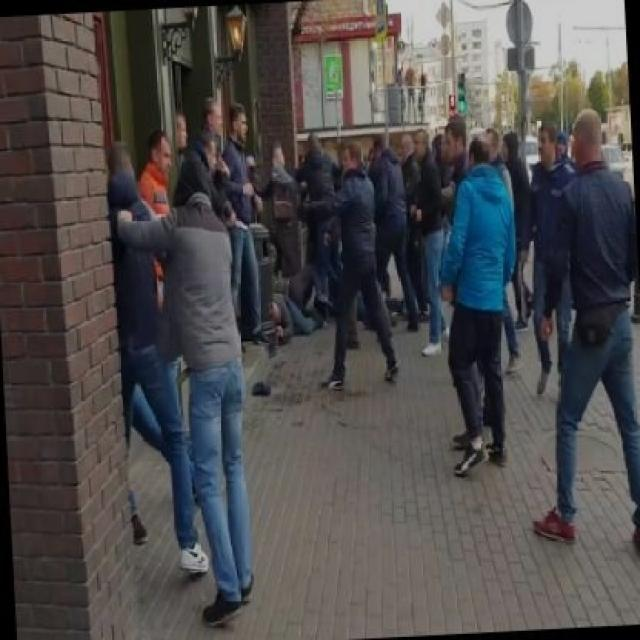non-fight: (95, 111, 288, 632), (514, 97, 638, 557), (312, 143, 405, 392)
